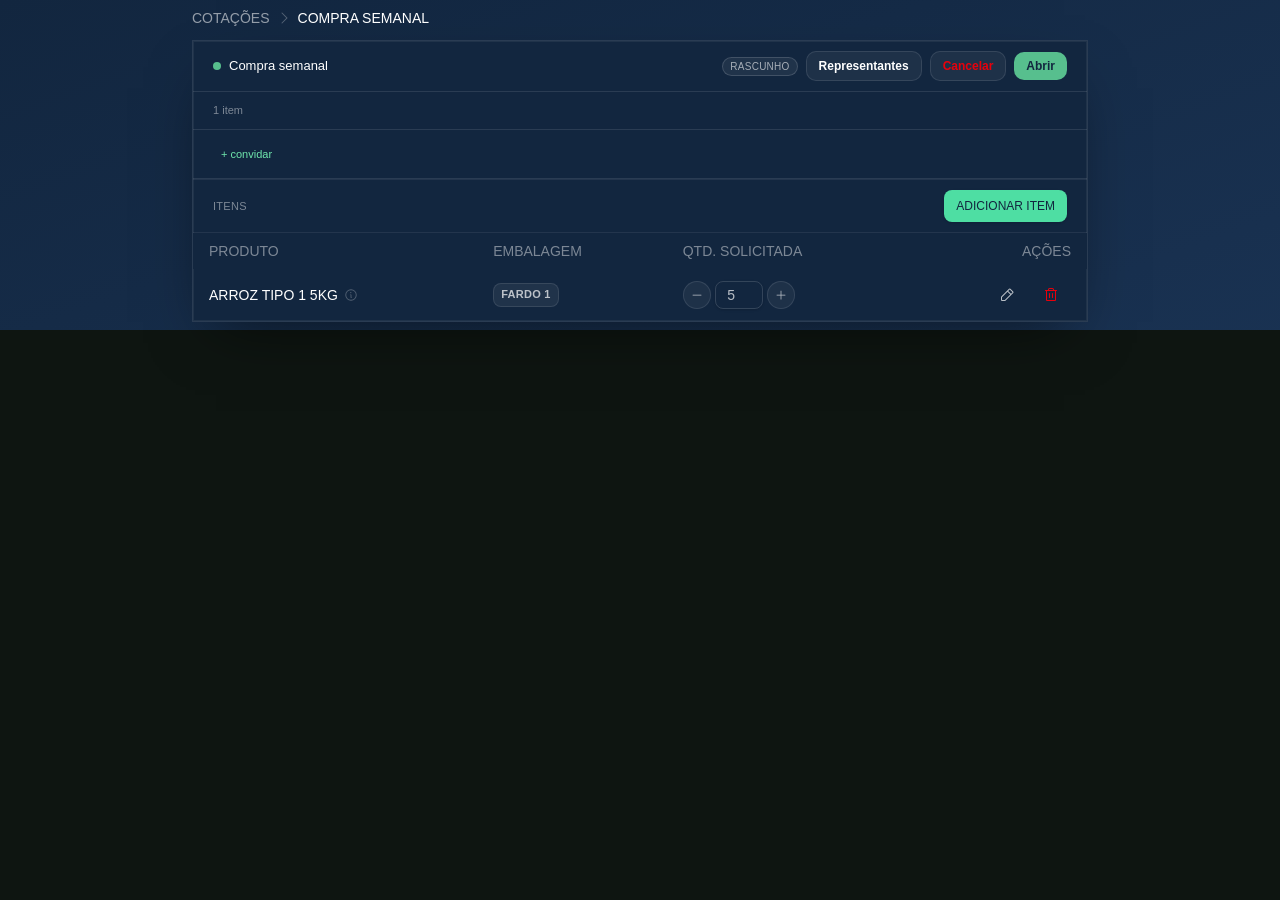
Test: lápis no item (RASCUNHO) abre o cadastro do produto e a embalagem atualiza na lista
Check: the heading "Compra semanal" is shown, box x1=229 y1=56 x2=328 y2=76
Check: the text "FARDO 1" is shown, box x1=493 y1=283 x2=559 y2=307
Click the button named "Editar embalagem de Arroz Tipo 1 5kg" at (1007, 295), box x1=987 y1=279 x2=1027 y2=311
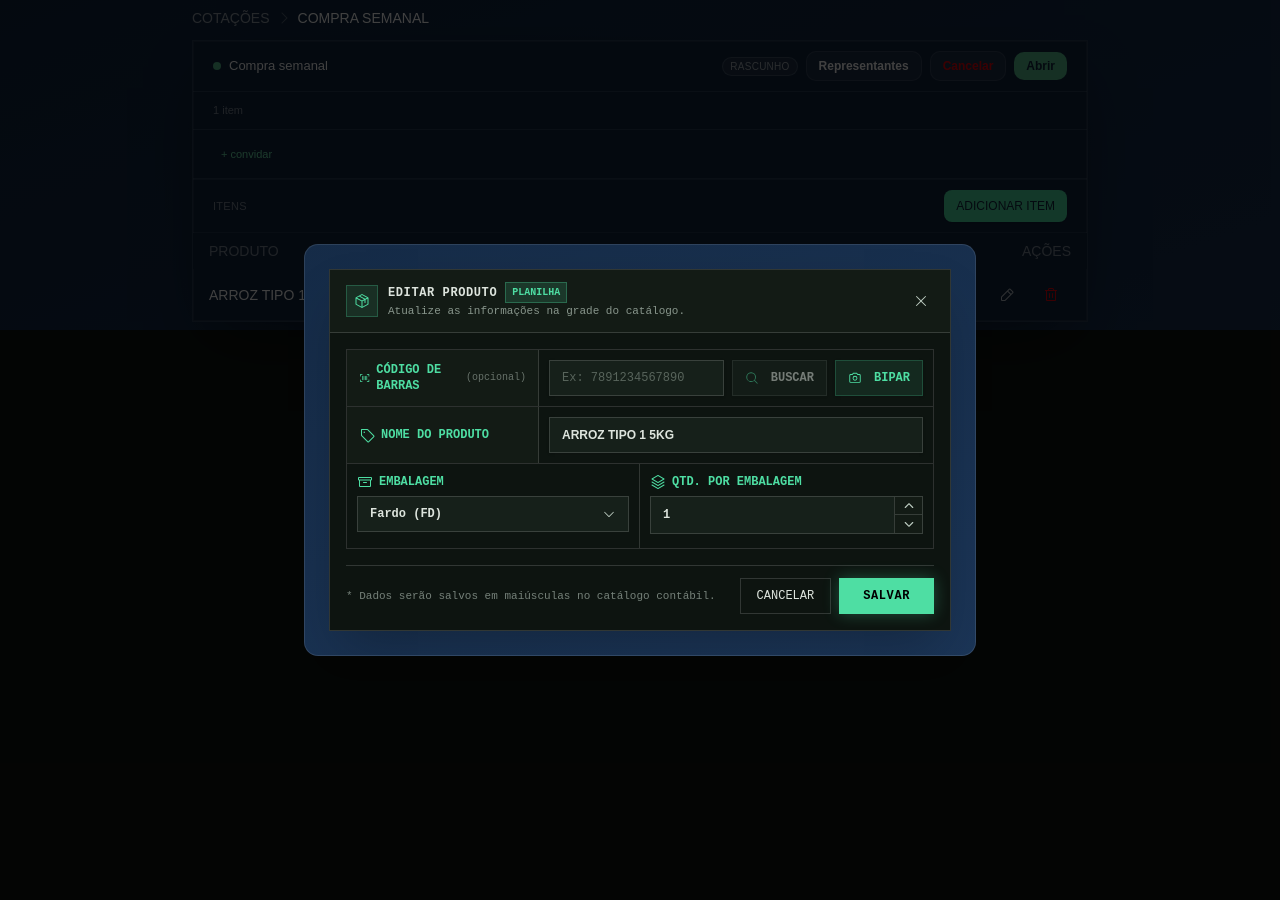
Check: the dialog named "Cadastrar novo produto" shows "Editar Produto", box x1=388 y1=286 x2=497 y2=300
Select "Caixa (CX)" in the dropdown labelled "Embalagem" at (400, 482), box x1=357 y1=474 x2=444 y2=490
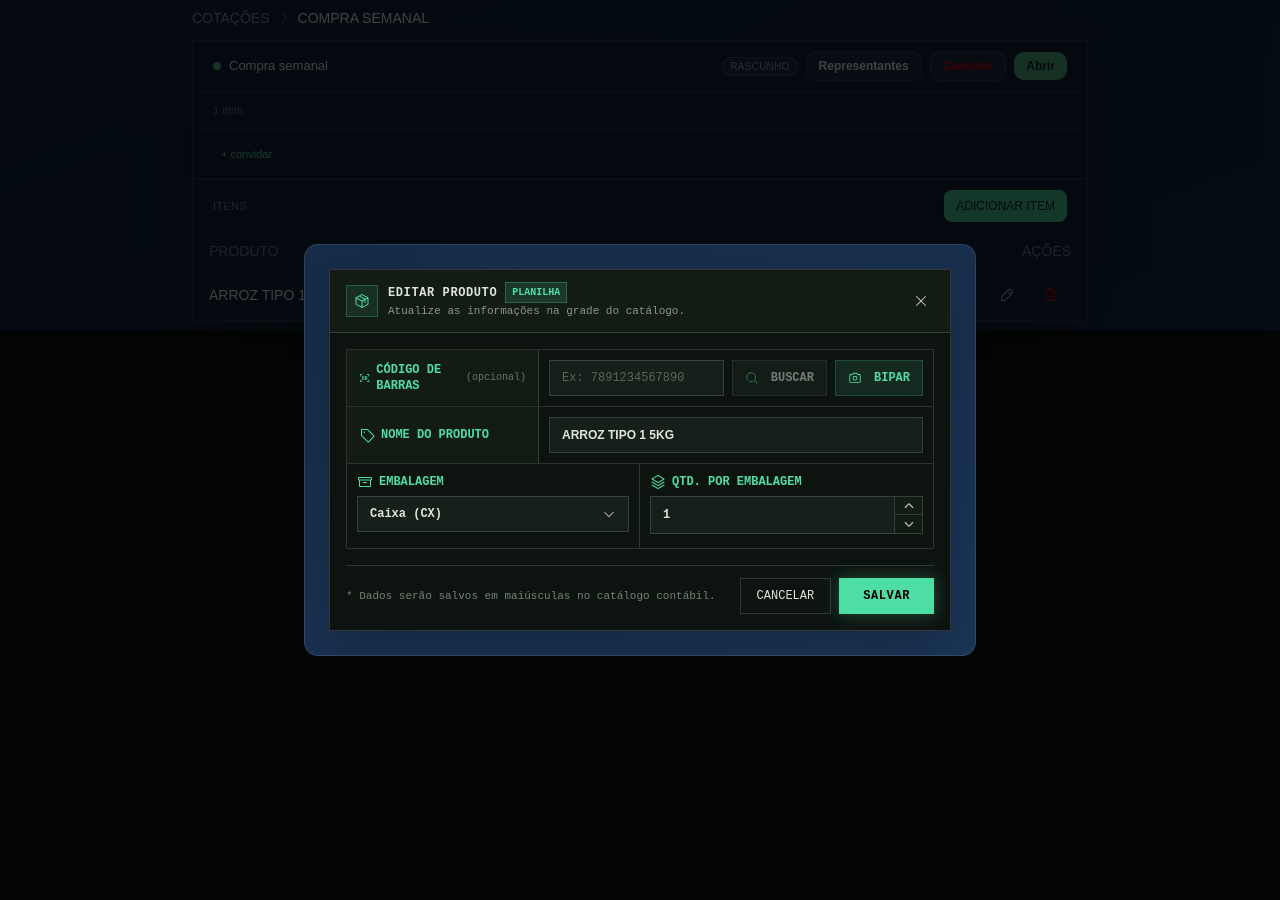
Replace the text in the number field labelled "Qtd. por embalagem" with "12" at (786, 515), box x1=651 y1=497 x2=922 y2=533
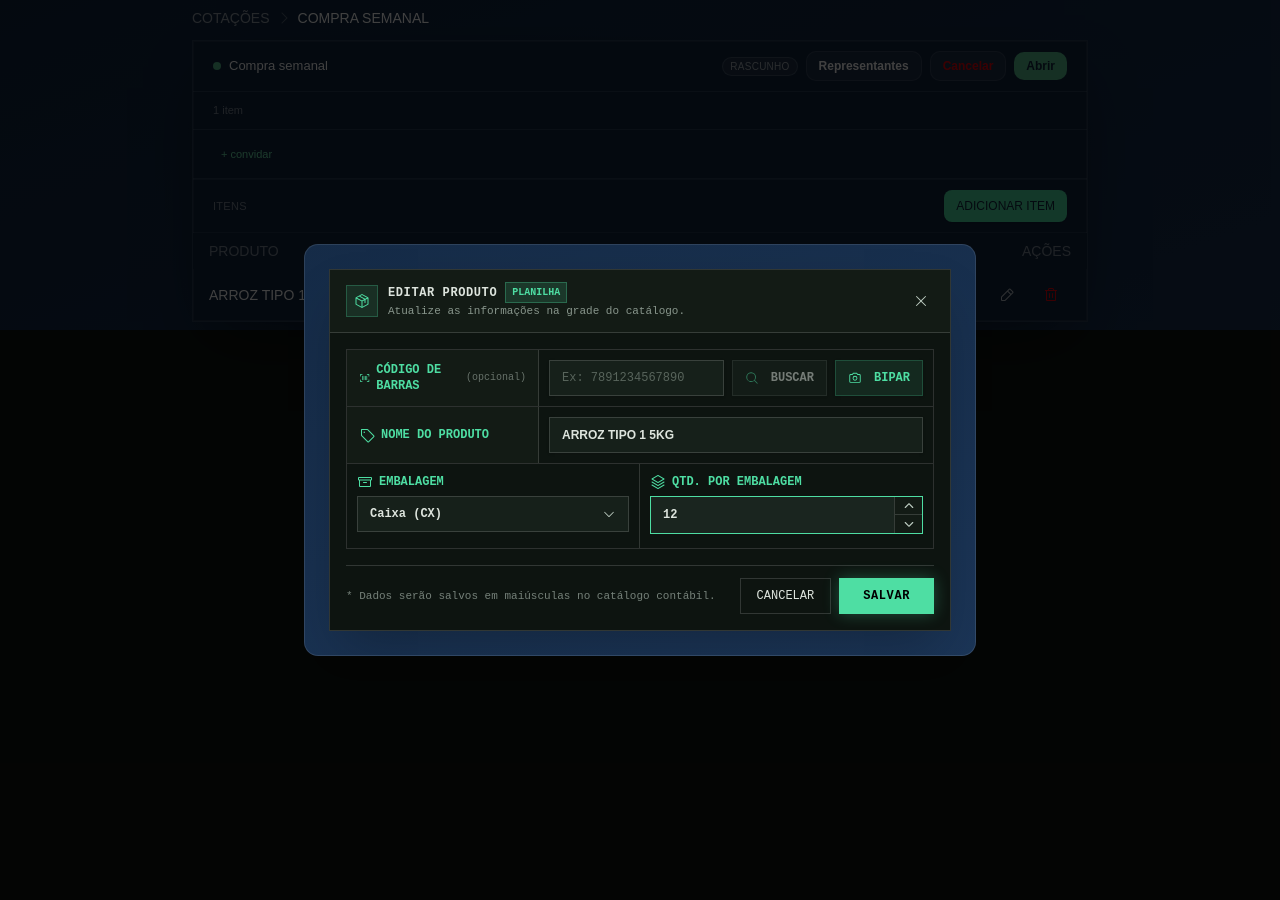
Click the button "Salvar" at (887, 596), box x1=839 y1=578 x2=934 y2=614
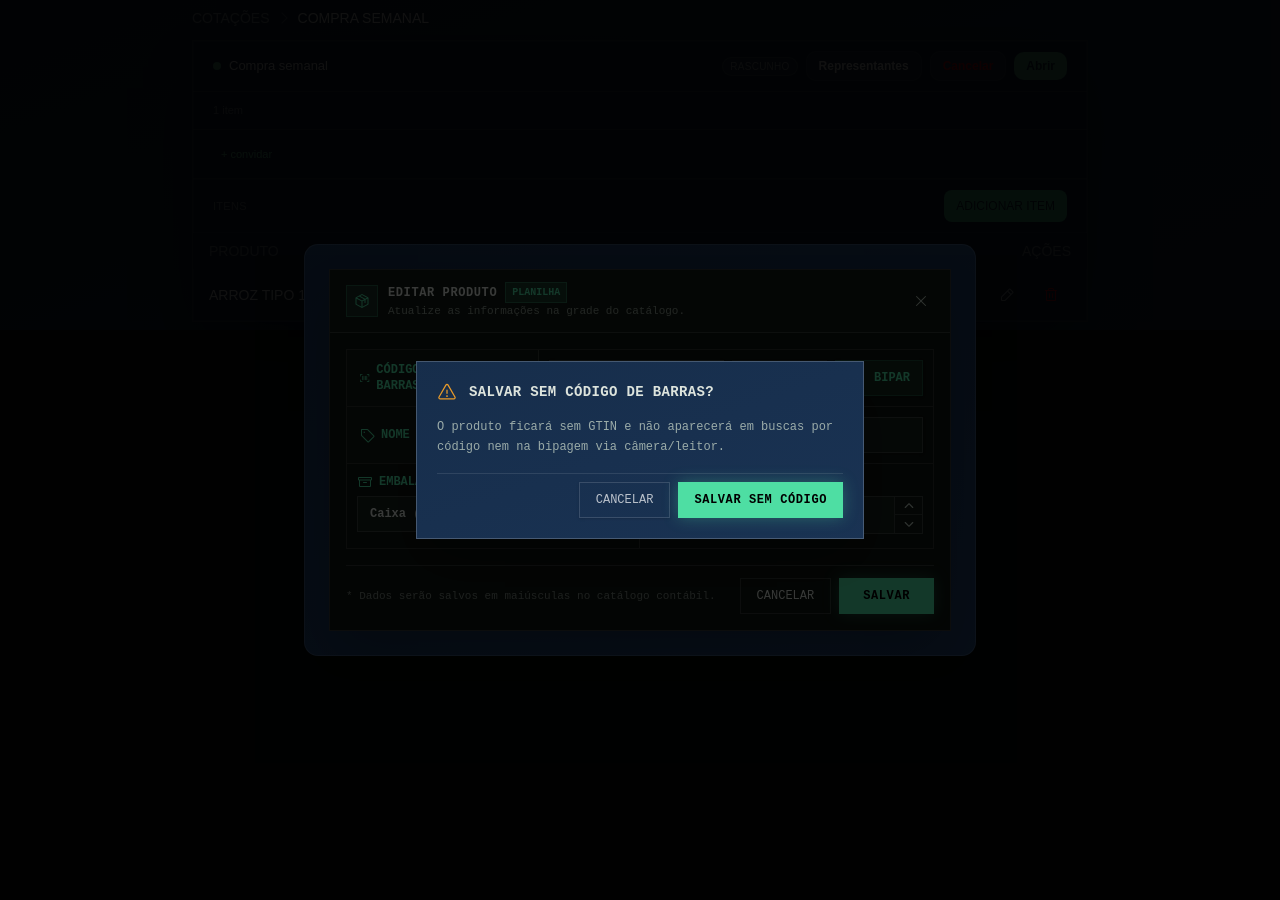
Click the button "Salvar sem código" at (761, 500), box x1=678 y1=482 x2=843 y2=518
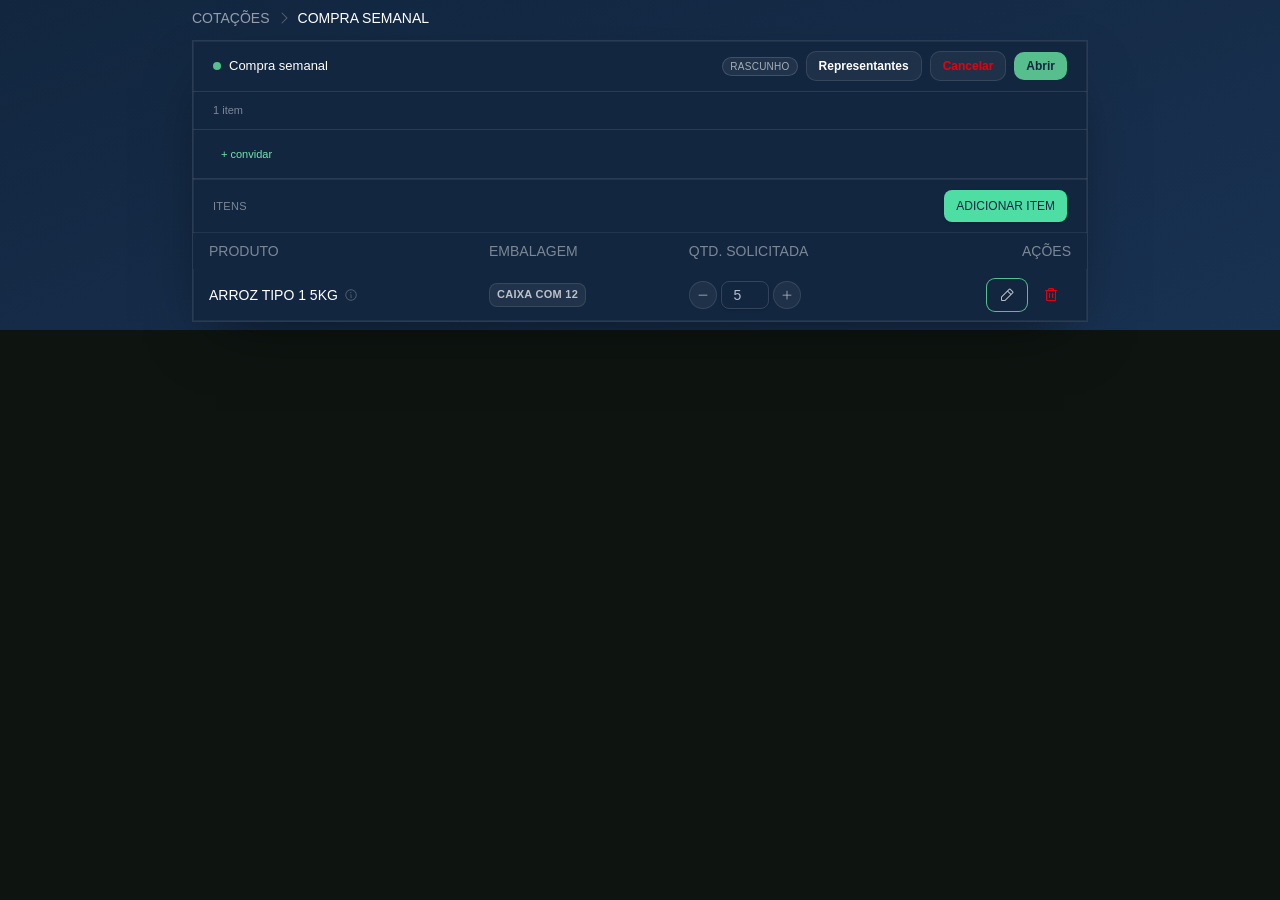
Check: the text "CAIXA COM 12" is shown, box x1=489 y1=283 x2=586 y2=307
